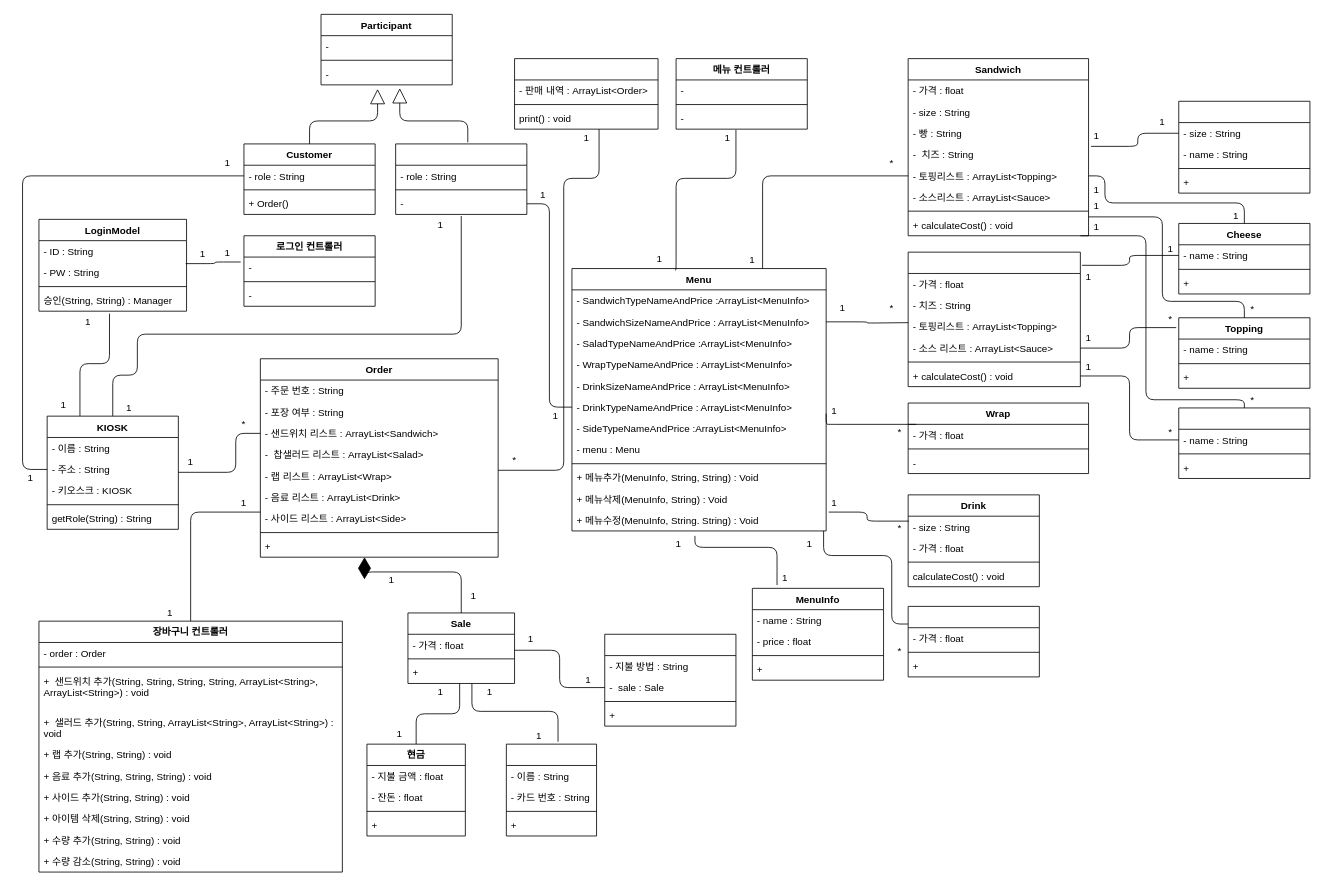
The diagram is 1324 pixels wide and 889 high, and some of its shapes have lost their labels. Here are the shapes that lost their labels. From the top down, the box of each, then its label:
(514, 58, 658, 129): 매출 현황 컨트롤러
(1178, 100, 1310, 193): Bread
(395, 143, 527, 214): Manager
(907, 251, 1080, 387): Salad
(1178, 407, 1310, 478): Sauce
(907, 606, 1039, 677): Side
(604, 633, 736, 726): 결제 컨트롤러
(506, 743, 597, 836): 카드
